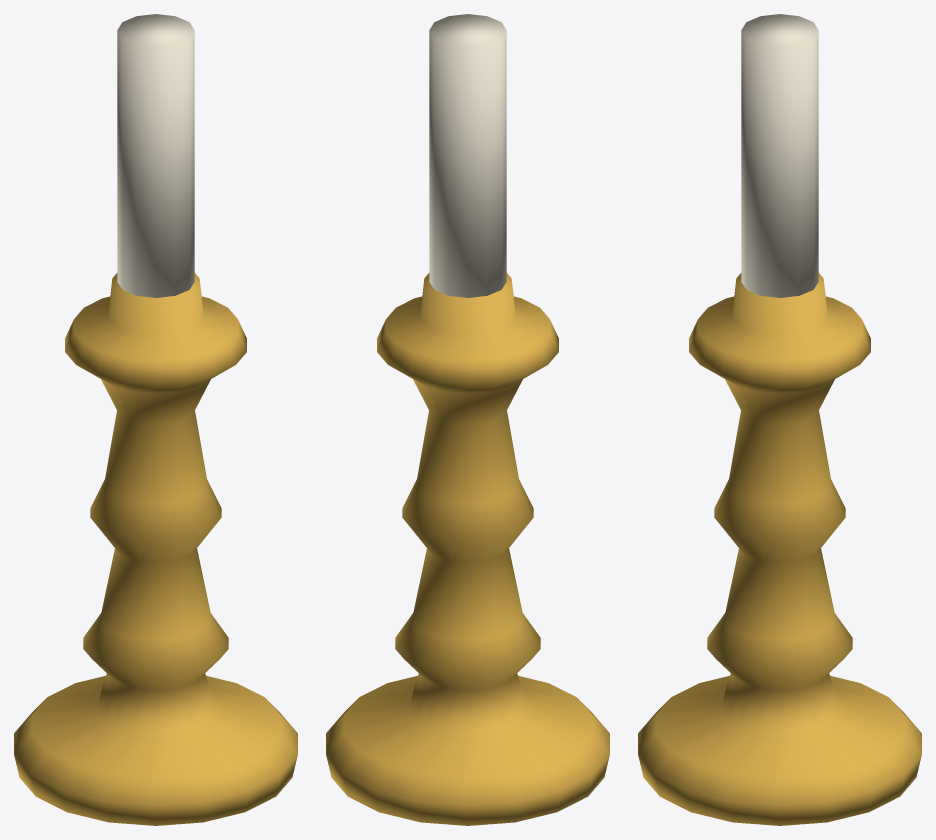
The model's file is candlestick.glb.
The picture shows the model from 3 angles, left to right: view 1: azimuth 30°, elevation 25°; view 2: azimuth 150°, elevation 25°; view 3: azimuth 270°, elevation 25°; orthographic projection.
Parts seen in each view (by area): view 1: Candlestick; view 2: Candlestick; view 3: Candlestick.
Part boxes in pixels (bbox=[...]): Candlestick: bbox=[14, 14, 297, 825]; Candlestick: bbox=[326, 14, 609, 825]; Candlestick: bbox=[638, 14, 921, 825].
Size of the model in its own units: 0.156 by 0.44 by 0.1536.
